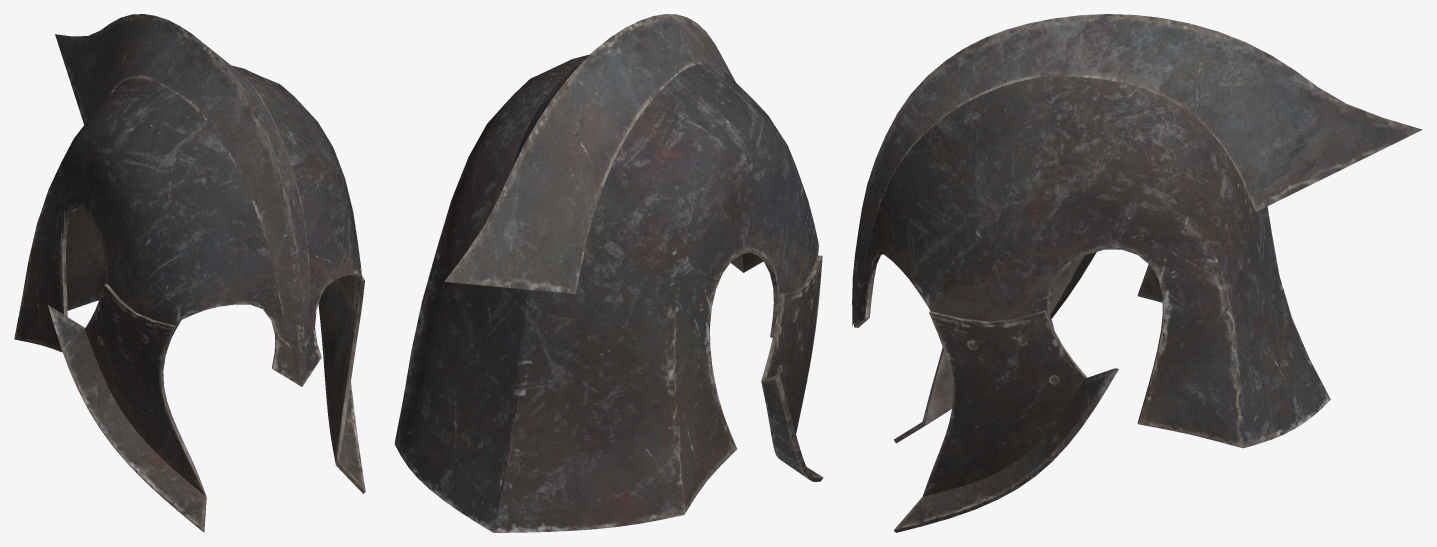
The model's file is sk_dg_uruk_helmet_heavy_h.fbx.
3 renders of one model, left to right at view 1: azimuth 30°, elevation 25°; view 2: azimuth 150°, elevation 25°; view 3: azimuth 270°, elevation 25°, orthographic. The views are drawn at different scales.
Visible parts, largest first — view 1: sk_dg_uruk_helmet_heavy_h; view 2: sk_dg_uruk_helmet_heavy_h; view 3: sk_dg_uruk_helmet_heavy_h.
Part boxes in pixels (x1=…): sk_dg_uruk_helmet_heavy_h: x1=14, y1=14, x2=365, y2=532; sk_dg_uruk_helmet_heavy_h: x1=394, y1=14, x2=823, y2=532; sk_dg_uruk_helmet_heavy_h: x1=852, y1=14, x2=1422, y2=532.
Size of the model in its own units: 0.2401 by 0.3666 by 0.3362.
1 material, 1 textured.
